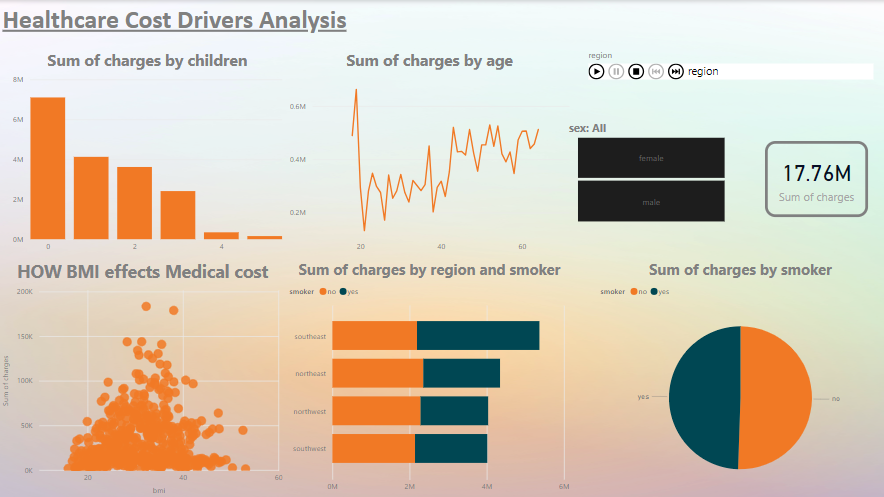

What the dashboard file says about the page in this screenshot:
{"tool":"powerbi","page":{"name":"Page 1","canvas":[1280,720],"ordinal":0},"visuals":[{"type":"scatterChart","title":"HOW BMI effects Medical cost ","fields":{"X":["insurance.bmi"],"Y":["Sum(insurance.charges)"]},"box":[0,374.6,414.9,346],"z":0},{"type":"barChart","fields":{"Category":["insurance.region"],"Y":["Sum(insurance.charges)"],"Series":["insurance.smoker"]},"box":[414.9,374.6,414.9,346],"z":1000},{"type":"pieChart","fields":{"Category":["insurance.smoker"],"Y":["Sum(insurance.charges)"]},"box":[865.1,374.6,414.9,346],"z":2000},{"type":"columnChart","fields":{"Category":["insurance.children"],"Y":["Sum(insurance.charges)"]},"box":[15.1,70.6,399.8,304],"z":3000},{"type":"lineChart","fields":{"Category":["insurance.age"],"Y":["Sum(insurance.charges)"]},"box":[414.9,70.6,414.9,304],"z":4000},{"type":"slicer","fields":{"Values":["insurance.sex"]},"box":[811.3,169.7,262,157.9],"z":5000},{"type":"PBI_CV_16948668_E17D_454B_8664_2F2C470EA8C1","fields":{"category":["insurance.region"]},"box":[847.2,70.8,422.2,49.2],"z":6000},{"type":"card","fields":{"Values":["Sum(insurance.charges)"]},"box":[1107.5,203.9,148.9,109.9],"z":7000},{"type":"textbox","box":[0,0,532,60.7],"z":7001}]}

Visuals, with their boxes in screenshot pixels (x1, y1, x2, y2), scaled from the page's 1280x720 canvas onto the 884x497 screenshot:
"HOW BMI effects Medical cost " scatterChart: 0,259,287,496
barChart - insurance.region x Sum(insurance.charges): 287,259,573,496
pieChart - insurance.smoker x Sum(insurance.charges): 597,259,883,496
columnChart - insurance.children x Sum(insurance.charges): 10,49,287,259
lineChart - insurance.age x Sum(insurance.charges): 287,49,573,259
slicer - insurance.sex: 560,117,741,226
PBI_CV_16948668_E17D_454B_8664_2F2C470EA8C1 - insurance.region: 585,49,877,83
card - Sum(insurance.charges): 765,141,868,217
textbox: 0,0,367,42
